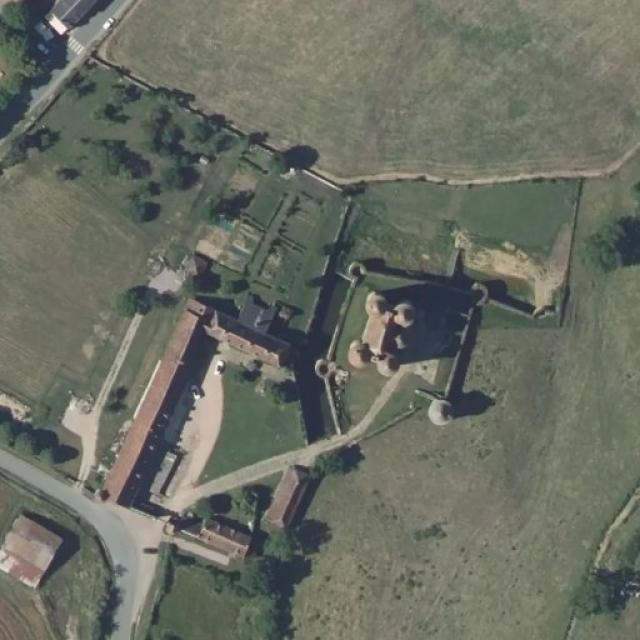ferme: (86, 280, 294, 486)
maison: (0, 510, 66, 588), (262, 448, 317, 530), (176, 524, 253, 567), (24, 0, 120, 28)
